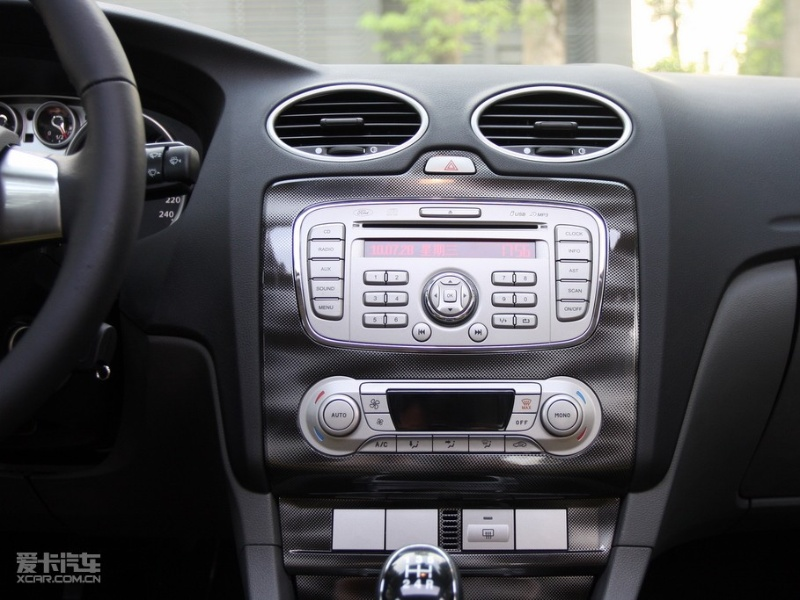control_center: (251, 64, 643, 509)
gear_lever: (353, 536, 497, 591)
odometer: (14, 69, 225, 216)
steering_wheel: (1, 20, 156, 433)
